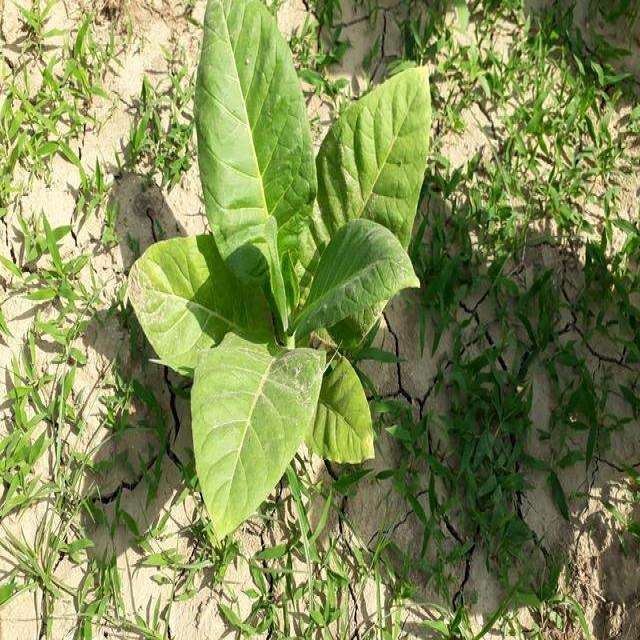crop: (128, 0, 436, 535)
